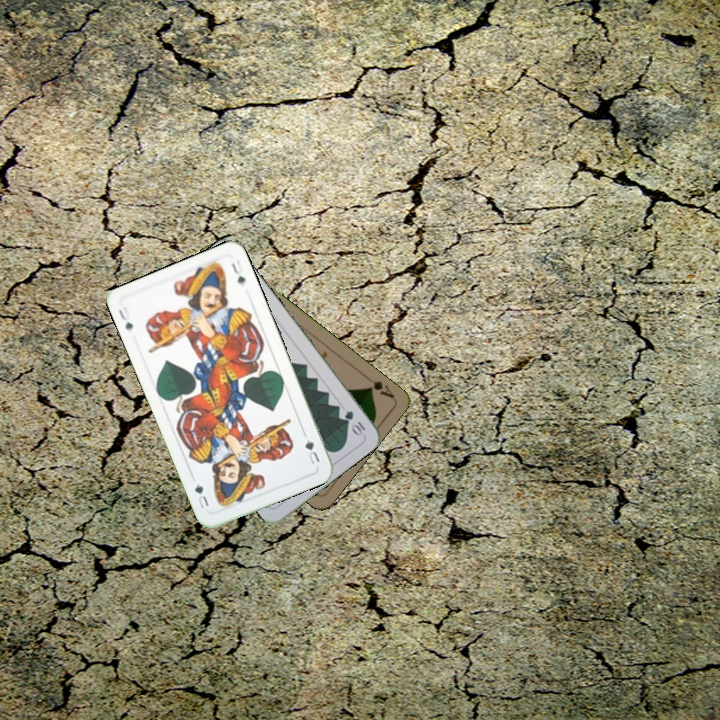G10: (340, 406, 368, 438)
GA: (361, 371, 396, 401)
GU: (301, 435, 323, 467), (114, 303, 136, 334)
